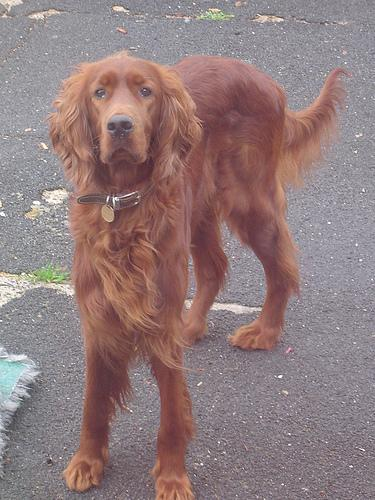Irish_setter: (46, 47, 350, 497)
